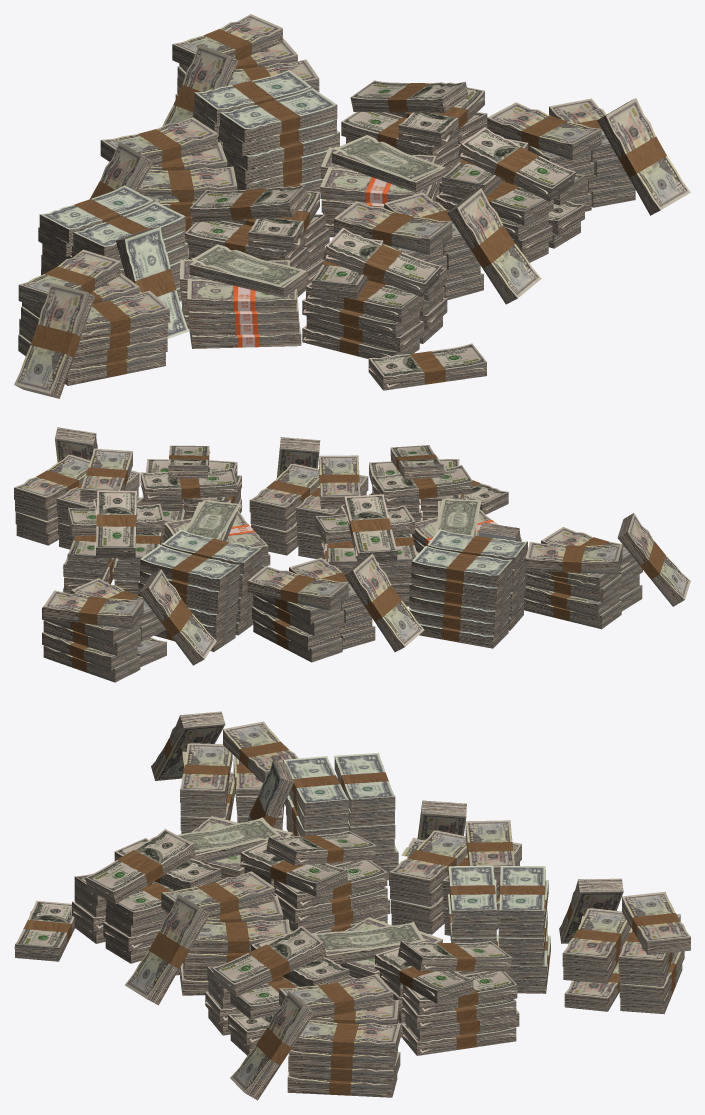
Rendered from Money.gltf.
The picture shows the model from 3 angles, top to bottom: view 1: azimuth 30°, elevation 25°; view 2: azimuth 150°, elevation 25°; view 3: azimuth 270°, elevation 25°; orthographic projection. The views are drawn at different scales.
Parts seen in each view (by area): view 1: node-0; view 2: node-0; view 3: node-0.
Part boxes in pixels (x1=…): node-0: x1=14, y1=14, x2=690, y2=398; node-0: x1=14, y1=427, x2=690, y2=682; node-0: x1=14, y1=711, x2=690, y2=1100.
Bounding box in the file's own units: 45.6 × 6.18 × 39.38.
Materials: 9 (7 with a texture image).
